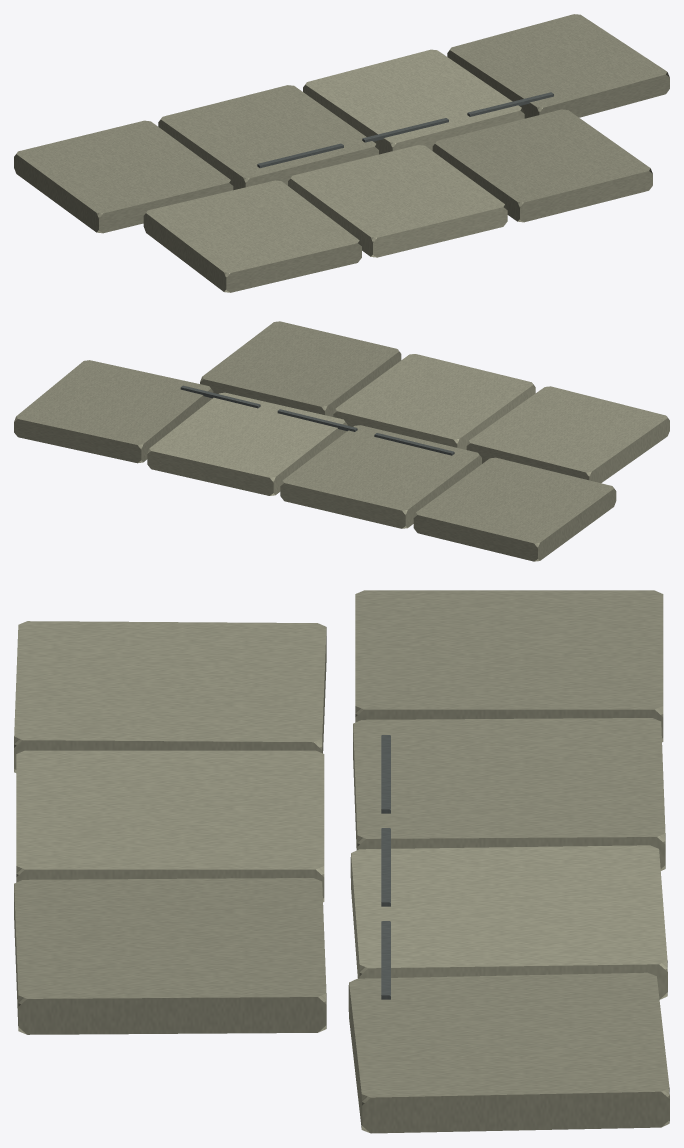
The model's file is cataclysm_upland_paving.glb.
The picture shows the model from 3 angles, top to bottom: view 1: azimuth 30°, elevation 25°; view 2: azimuth 150°, elevation 25°; view 3: azimuth 270°, elevation 25°; orthographic projection. The views are drawn at different scales.
Parts seen in each view (by area): view 1: cataclysm_upland_paving; view 2: cataclysm_upland_paving; view 3: cataclysm_upland_paving.
Part boxes in pixels (<box>): cataclysm_upland_paving: <box>14,14,669,292</box>; cataclysm_upland_paving: <box>14,321,669,561</box>; cataclysm_upland_paving: <box>14,590,669,1133</box>.
Bounding box in the file's own units: 2.73 × 0.101 × 1.49.
Materials: 1 (1 with a texture image).
